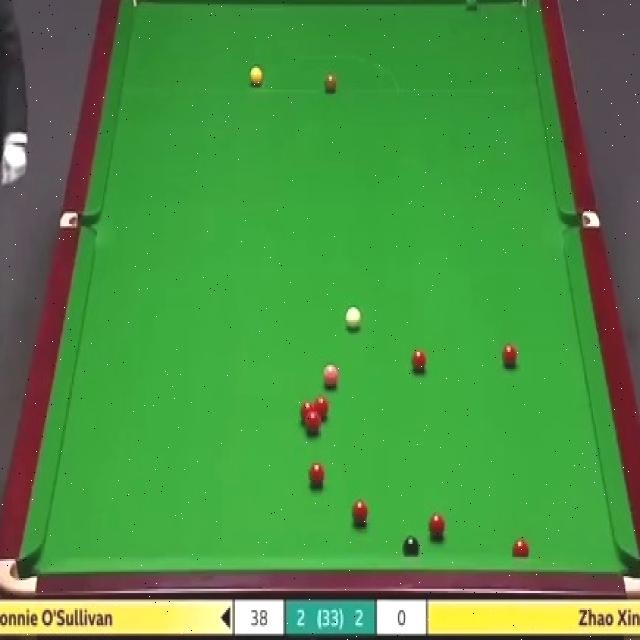black-ball: (403, 534, 420, 558)
brown-ball: (324, 70, 337, 92)
green-ball: (464, 0, 478, 9)
pink-ball: (320, 360, 340, 389)
red-ball: (308, 458, 327, 488), (428, 514, 447, 542), (352, 498, 369, 528), (410, 346, 428, 374), (501, 343, 517, 370), (510, 536, 530, 556), (314, 396, 329, 422), (300, 401, 314, 427), (306, 414, 322, 436)
white-ball: (345, 305, 362, 334)
yellow-ball: (248, 68, 262, 86)
